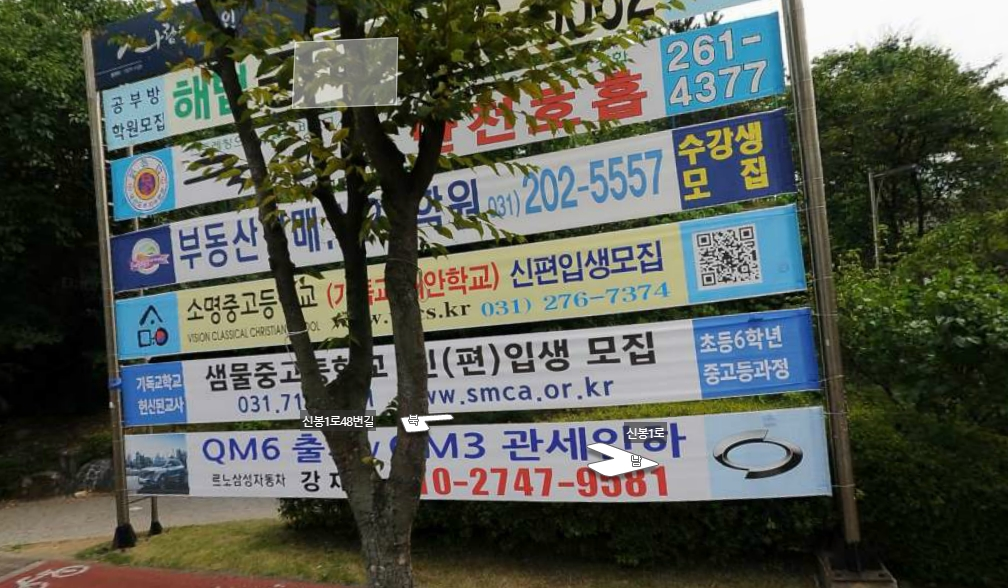banner: (105, 9, 782, 226), (108, 112, 790, 302), (121, 211, 815, 364), (113, 302, 825, 434), (111, 410, 837, 503)
